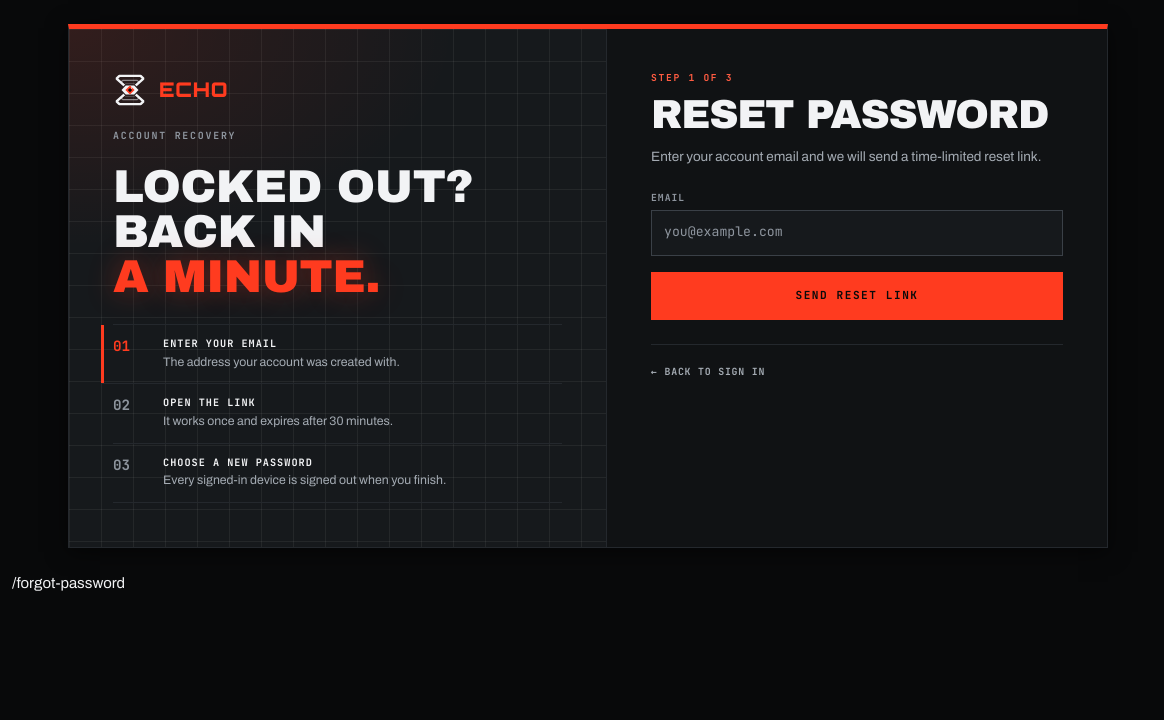
Test: PasswordResetPage — request a link › requests a link for the trimmed email and moves to the "check your inbox" step
Type "  maker@example.com " into the field labelled "EMAIL" at point(857, 233), box [652,211,1062,255]
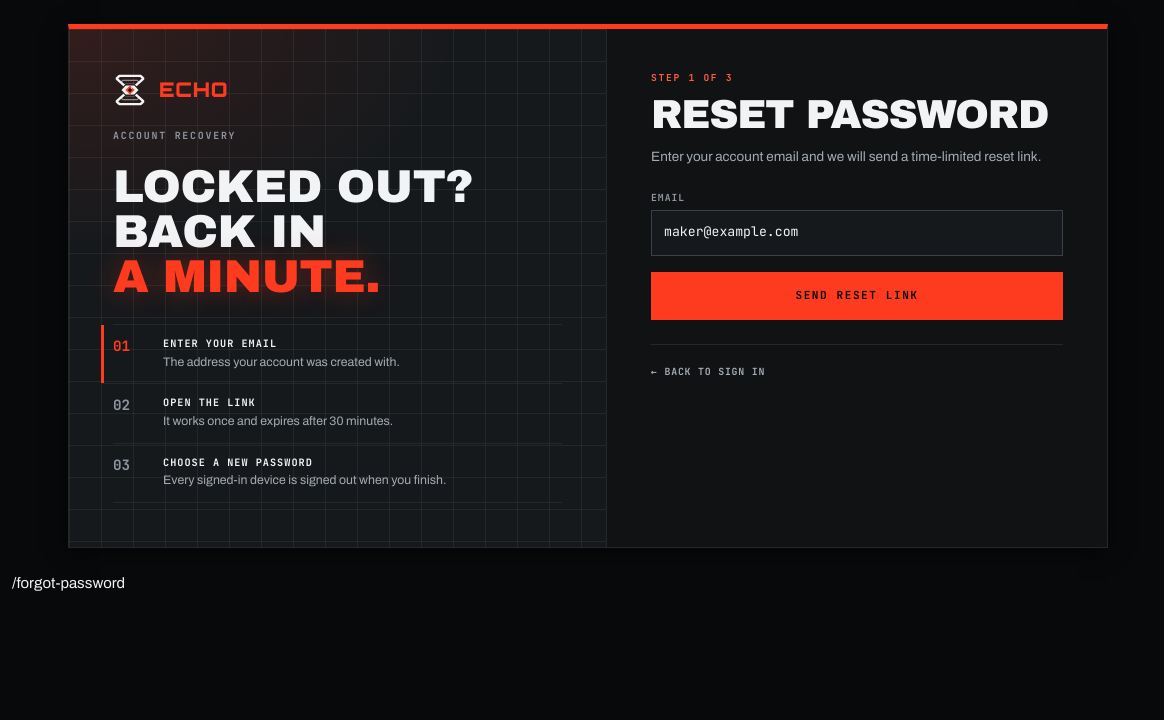
Click the button "SEND RESET LINK" at point(857, 296), box [651,272,1063,320]
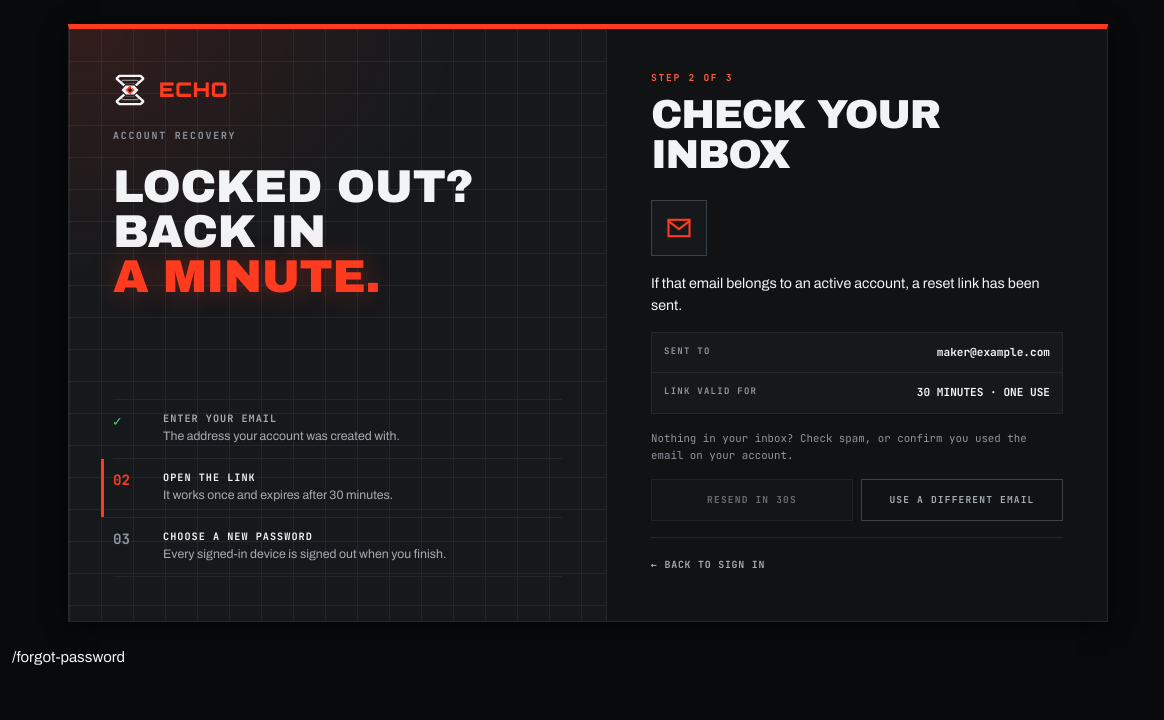
Now the heading "CHECK YOUR INBOX" is shown, box [651,92,940,177]
Now the text "If that email belongs to an active account, a reset link has been sent." is shown, box [651,272,1063,316]
Now the text "maker@example.com" is shown, box [937,345,1050,360]
